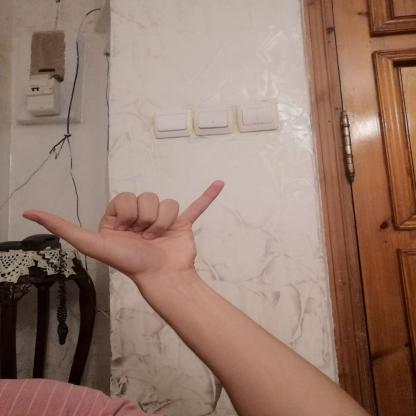YA: (13, 172, 236, 284)
